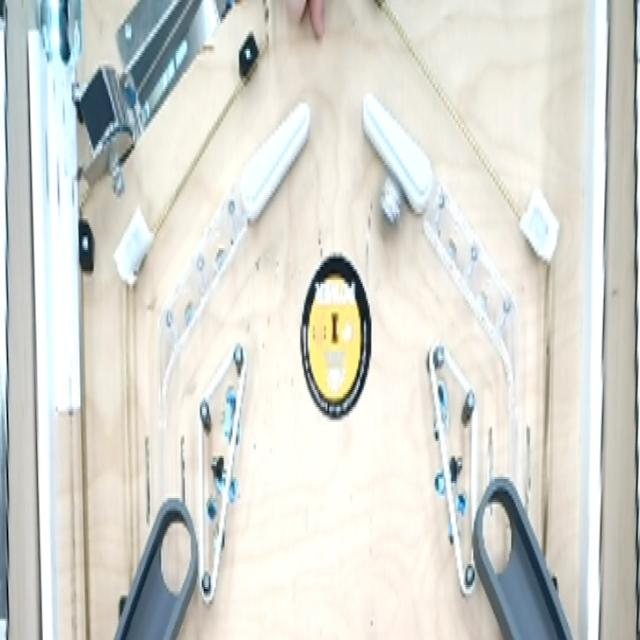ball: (374, 172, 405, 241)
flipper-left: (358, 84, 439, 218)
flipper-right: (235, 96, 312, 225)
